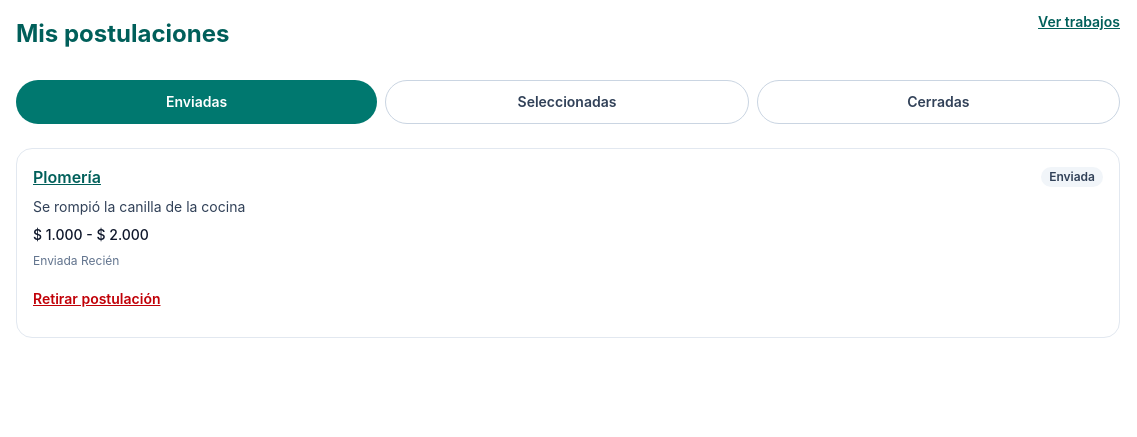
MisPostulacionesPage › muestra el error tipado si falla el retiro
Click the button "Retirar postulación" at {"x": 97, "y": 299}, box top-left (33, 277), bottom-right (160, 321)
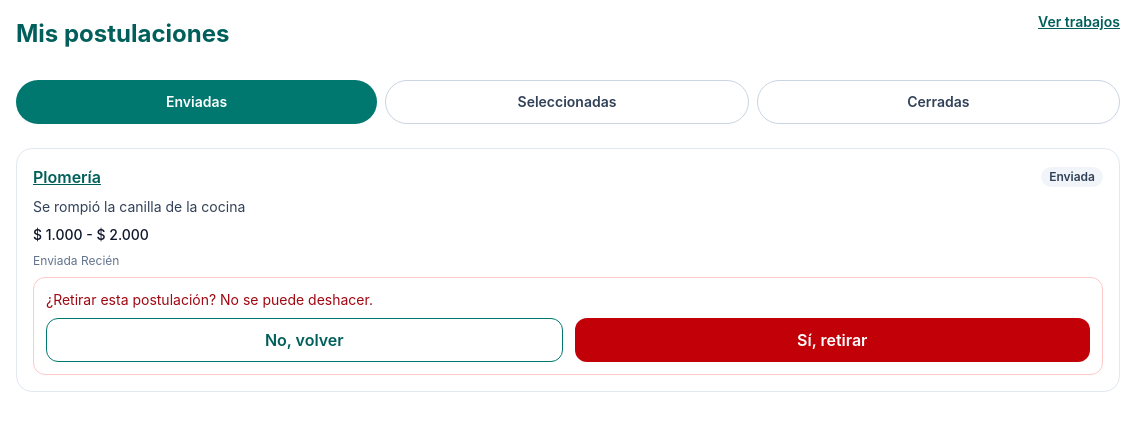
Click the button "Sí, retirar" at {"x": 832, "y": 340}, box top-left (574, 318), bottom-right (1090, 362)
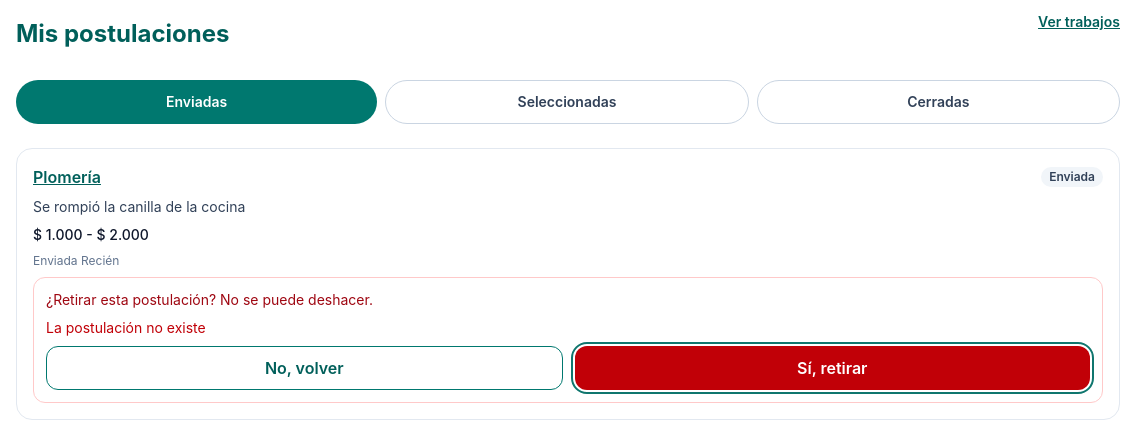
Result: the text "La postulación no existe" is shown at top-left (46, 319), bottom-right (206, 336)
